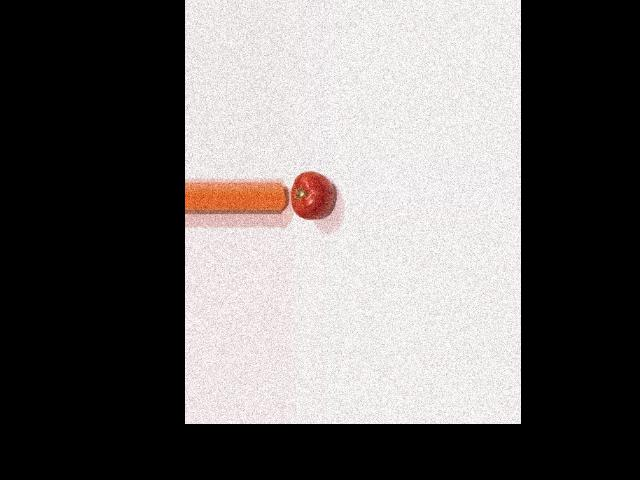tomato: (291, 171, 333, 219)
